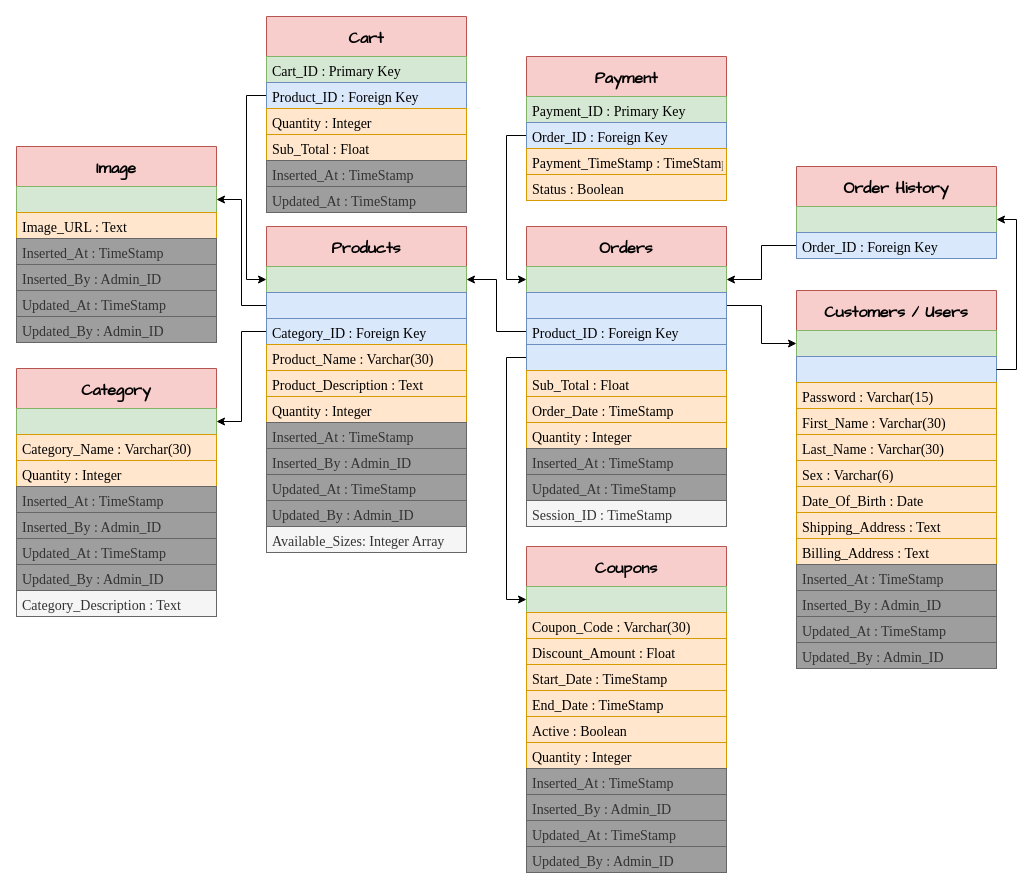
Some shapes in this 1033 by 889 pixel diagram are drawn without their labels. Each missing label, with the centre of its shape:
Category_ID : Primary Key: point 116,421
Coupon_ID : Foreign Key: point 626,357
Coupon_ID : Primary Key: point 626,599
Email_ID:Varchar(50): Primary Key: point 896,343
Image_ID : Foreign Key: point 366,305
Image_ID : Primary Key: point 116,199
Order_History_ID : Foreign Key: point 896,369
Order_History_ID : Primary Key: point 896,219
Order_ID : Primary Key: point 626,279
Product_ID : Primary Key: point 366,279
User_ID : Foreign Key: point 626,305
